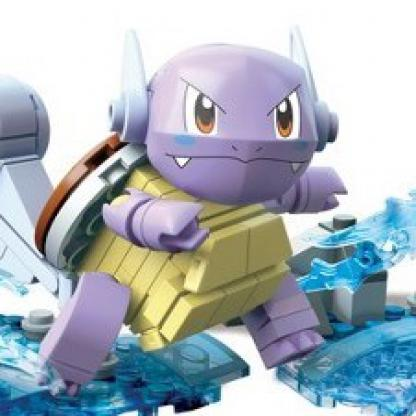Wartortle: (19, 19, 344, 204)
